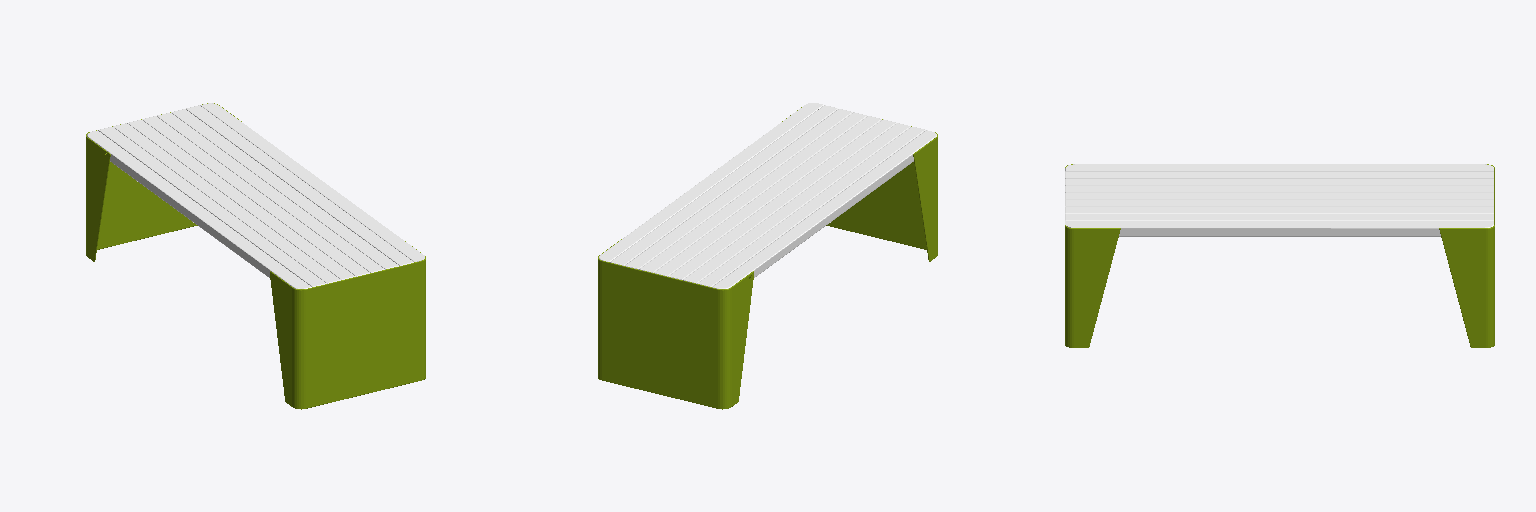
Rendered from LAVA__corona.obj.
The picture shows the model from 3 angles: view 1: azimuth 30°, elevation 25°; view 2: azimuth 150°, elevation 25°; view 3: azimuth 270°, elevation 25°; orthographic projection.
Visible parts, largest first — view 1: LAVA_011, LAVA_010, LAVA_001, LAVA_003, LAVA_007, LAVA_009, LAVA_005, LAVA_002, LAVA_006, LAVA_008, LAVA_004; view 2: LAVA_010, LAVA_011, LAVA_001, LAVA_003, LAVA_007, LAVA_005, LAVA_009, LAVA_006, LAVA_008, LAVA_002, LAVA_004; view 3: LAVA_004, LAVA_010, LAVA_011, LAVA_002, LAVA_003, LAVA_005, LAVA_006, LAVA_007, LAVA_008, LAVA_009, LAVA_001.
Part boxes in pixels (bbox=[...]): LAVA_011: bbox=[270, 241, 425, 409]; LAVA_010: bbox=[86, 103, 241, 261]; LAVA_001: bbox=[87, 130, 311, 288]; LAVA_003: bbox=[98, 127, 326, 286]; LAVA_007: bbox=[186, 105, 413, 265]; LAVA_009: bbox=[142, 116, 369, 276]; LAVA_005: bbox=[171, 109, 398, 269]; LAVA_002: bbox=[113, 123, 340, 283]; LAVA_006: bbox=[157, 113, 384, 272]; LAVA_008: bbox=[127, 120, 355, 279]; LAVA_004: bbox=[200, 103, 424, 261]; LAVA_010: bbox=[598, 239, 753, 409]; LAVA_011: bbox=[782, 107, 937, 261]; LAVA_001: bbox=[712, 130, 936, 288]; LAVA_003: bbox=[698, 127, 925, 286]; LAVA_007: bbox=[610, 105, 837, 265]; LAVA_005: bbox=[625, 109, 852, 269]; LAVA_009: bbox=[654, 116, 881, 276]; LAVA_006: bbox=[639, 112, 866, 272]; LAVA_008: bbox=[669, 119, 896, 279]; LAVA_002: bbox=[683, 123, 910, 283]; LAVA_004: bbox=[599, 103, 823, 261]; LAVA_004: bbox=[1065, 221, 1493, 236]; LAVA_010: bbox=[1439, 164, 1494, 347]; LAVA_011: bbox=[1065, 164, 1120, 347]; LAVA_002: bbox=[1065, 178, 1493, 185]; LAVA_003: bbox=[1065, 171, 1493, 178]; LAVA_005: bbox=[1065, 207, 1493, 213]; LAVA_006: bbox=[1065, 200, 1493, 206]; LAVA_007: bbox=[1065, 214, 1493, 220]; LAVA_008: bbox=[1065, 186, 1493, 192]; LAVA_009: bbox=[1065, 193, 1493, 199]; LAVA_001: bbox=[1065, 164, 1493, 170].
Bounding box in the file's own units: 464 × 402 × 1305.